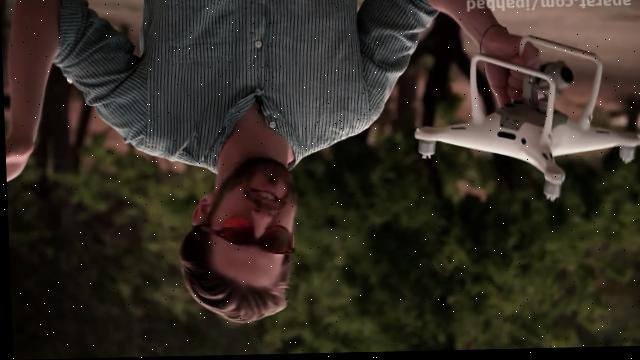drone: (411, 35, 640, 209)
